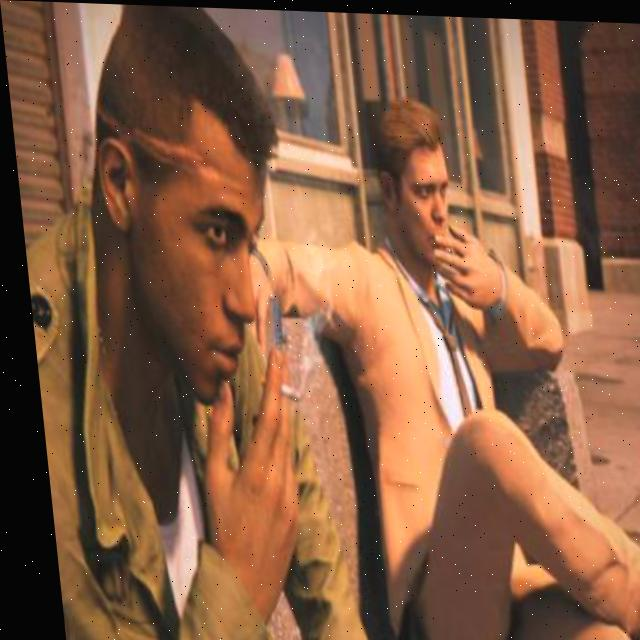cigarette: (251, 371, 294, 399)
